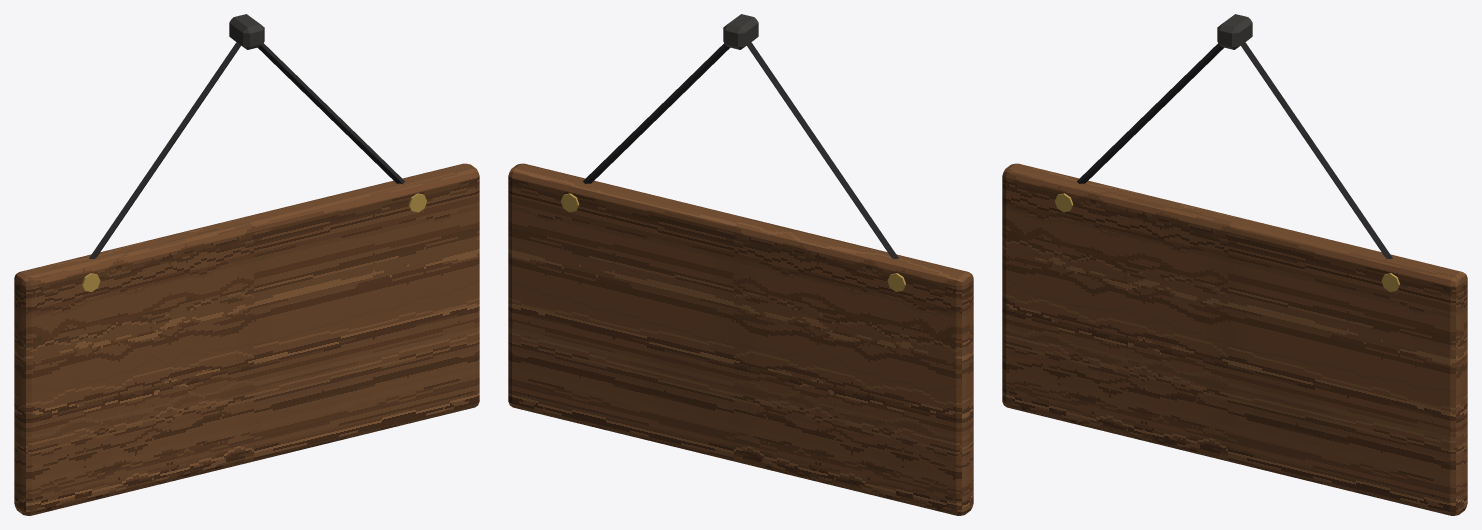
Rendered from hang_sign.glb.
The picture shows the model from 3 angles, left to right: view 1: azimuth 30°, elevation 25°; view 2: azimuth 150°, elevation 25°; view 3: azimuth 330°, elevation 25°; orthographic projection.
Parts seen in each view (by area): view 1: p; view 2: p; view 3: p.
Part boxes in pixels (x1,y1,x2,y2): p: [14, 14, 479, 515]; p: [508, 14, 973, 515]; p: [1002, 14, 1467, 515].
Size of the model in its own units: 0.42 by 0.385 by 0.03.
4 materials, 4 textured.
